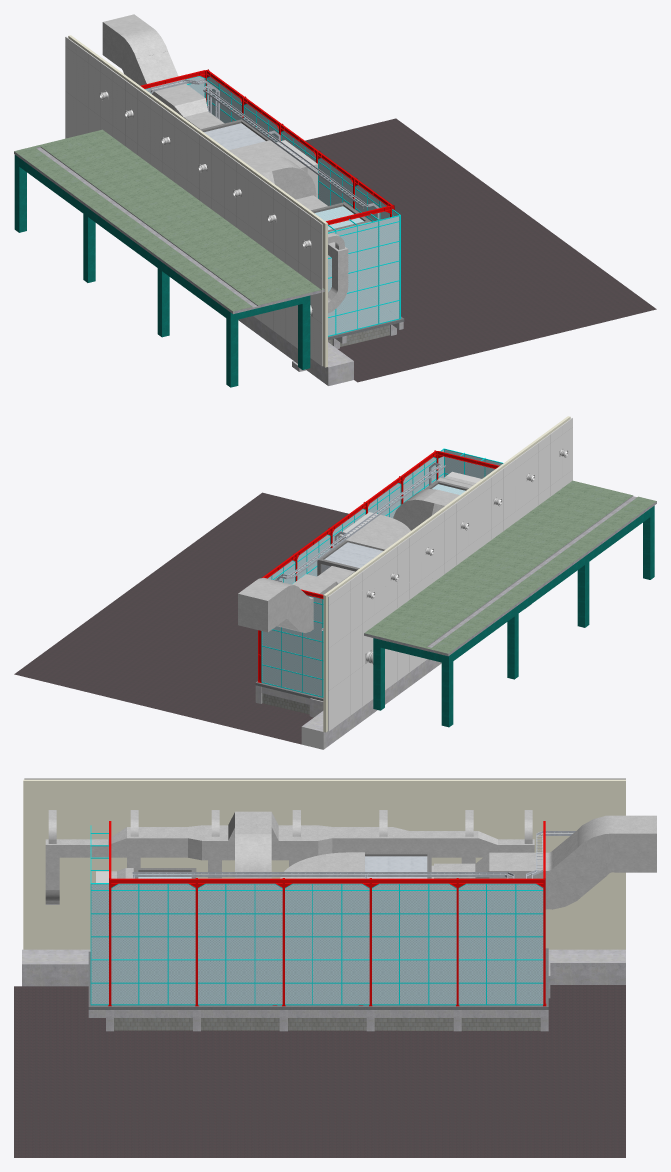
The model's file is noatap.glb.
3 renders of one model, top to bottom at view 1: azimuth 30°, elevation 25°; view 2: azimuth 150°, elevation 25°; view 3: azimuth 270°, elevation 25°, orthographic. The views are drawn at different scales.
Visible parts, largest first — view 1: Geom3D (×17), Geom3D_ (×8); view 2: Geom3D (×18), Geom3D_ (×10); view 3: Geom3D (×11), Geom3D_ (×19).
Part boxes in pixels (x1,y1,x2,y2): Geom3D (×17): (14,35,656,387); Geom3D_ (×8): (102,14,316,199); Geom3D (×18): (14,416,656,749); Geom3D_ (×10): (238,418,572,731); Geom3D (×11): (14,779,625,1157); Geom3D_ (×19): (24,778,656,1030).
Size of the model in its own units: 24.5 by 9.74 by 27.74.
Materials: 25 (15 with a texture image).
